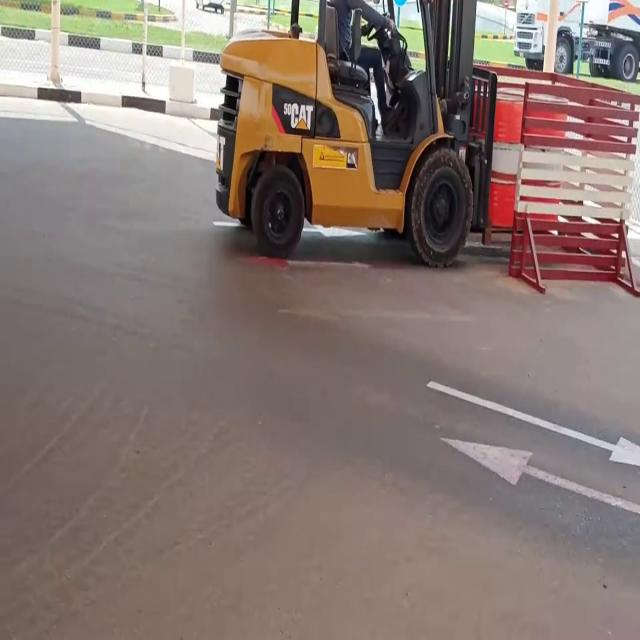Chariot elevateur: (205, 0, 491, 275)
